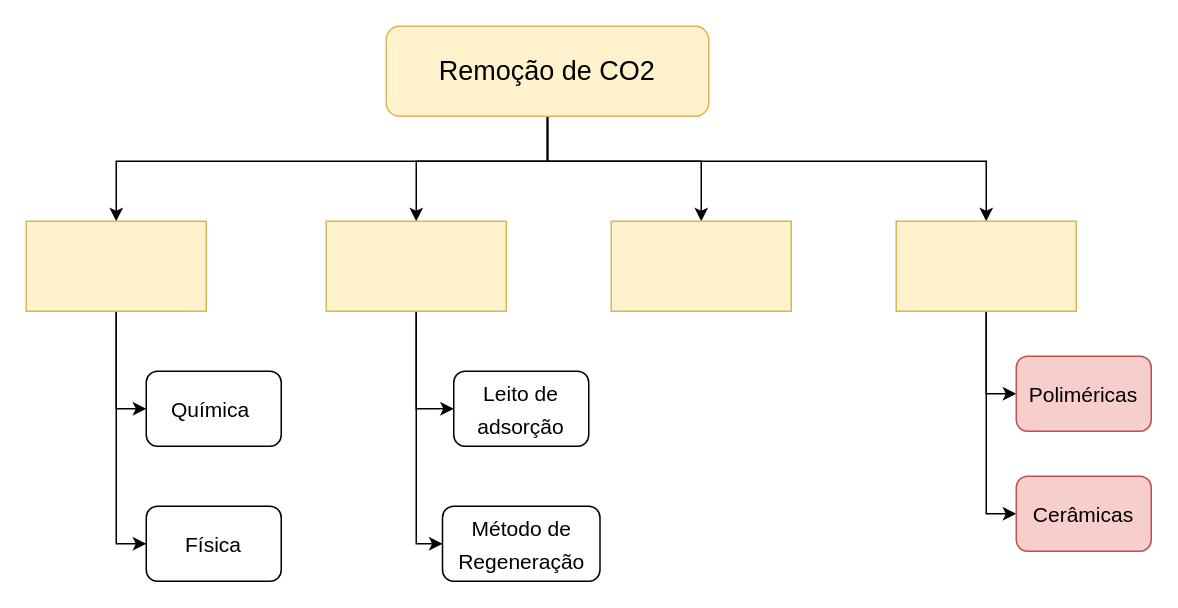
The diagram is 1178 pixels wide and 608 high, and some of its shapes have lost their labels. Each missing label, with the centre of its shape:
Absorção: the point at 115,265
Adsorção: the point at 415,265
Criogênico: the point at 700,265
Membranas: the point at 985,265
